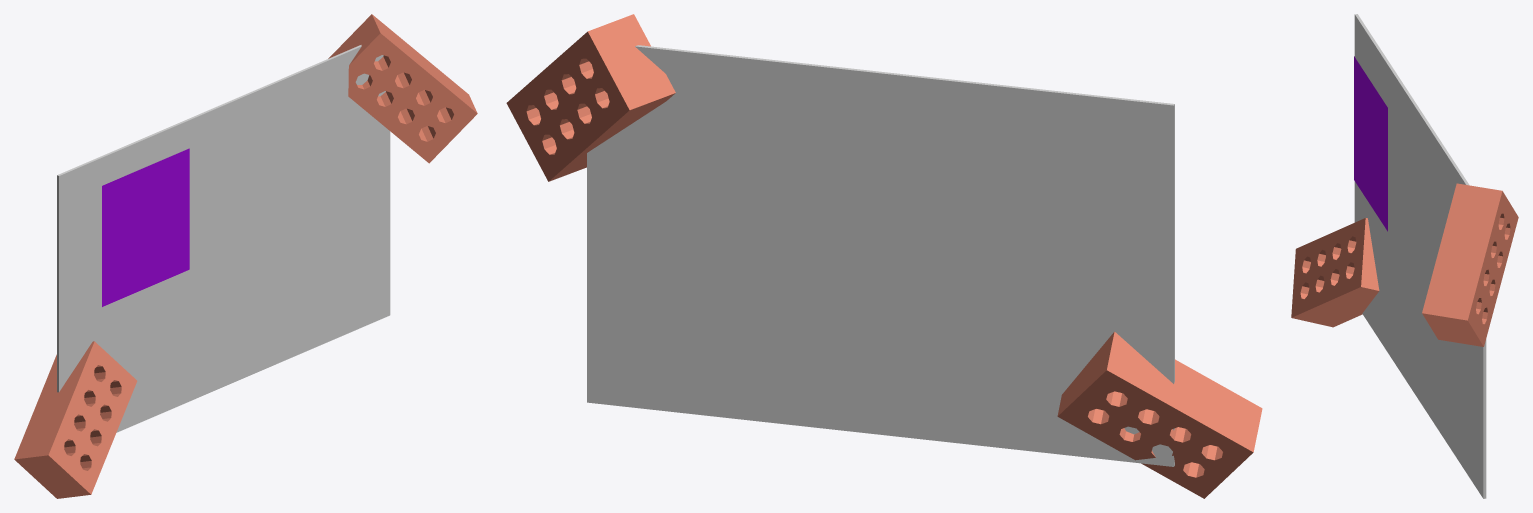
Rendered from lystra_stats.glb.
The picture shows the model from 3 angles, left to right: view 1: azimuth 30°, elevation 25°; view 2: azimuth 150°, elevation 25°; view 3: azimuth 270°, elevation 25°; orthographic projection. The views are drawn at different scales.
Parts seen in each view (by area): view 1: Stat sheet Samael, Cube.001, Img placeholder 1.003, Cube; view 2: Stat sheet Samael, Cube.001, Cube; view 3: Stat sheet Samael, Cube, Cube.001, Img placeholder 1.003.
Part boxes in pixels (x1,y1,x2,y2): Stat sheet Samael: [57, 45, 390, 432]; Cube.001: [14, 341, 137, 498]; Img placeholder 1.003: [102, 148, 189, 306]; Cube: [328, 14, 477, 163]; Stat sheet Samael: [587, 45, 1174, 466]; Cube.001: [1057, 331, 1262, 498]; Cube: [506, 14, 675, 181]; Stat sheet Samael: [1354, 14, 1486, 498]; Cube: [1422, 183, 1518, 346]; Cube.001: [1291, 218, 1379, 327]; Img placeholder 1.003: [1354, 56, 1387, 231].
Size of the model in its own units: 12.3 by 7.44 by 4.57.
